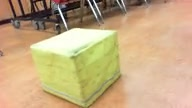cube: (30, 28, 122, 108)
